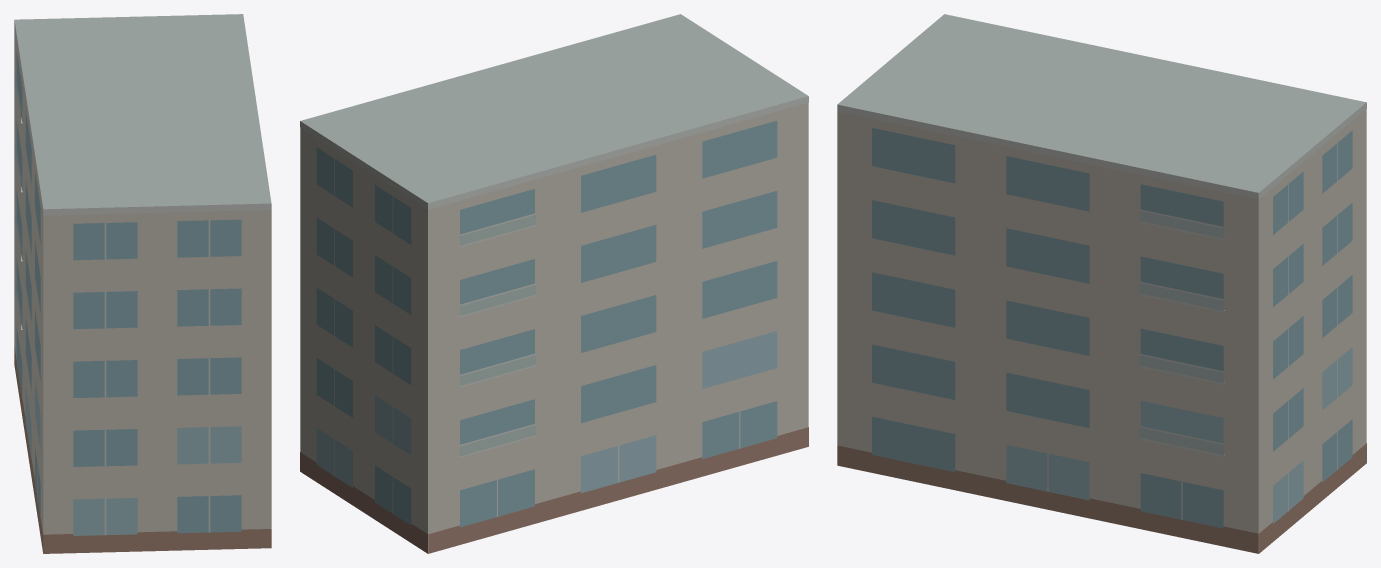
The model's file is survey-upis-32889598.glb.
3 views of the same model, side by side, from view 1: azimuth 30°, elevation 25°; view 2: azimuth 150°, elevation 25°; view 3: azimuth 270°, elevation 25° (orthographic). The views are drawn at different scales.
Parts seen in each view (by area): view 1: survey-upis-32889598.tmp; view 2: survey-upis-32889598.tmp; view 3: survey-upis-32889598.tmp.
Part boxes in pixels (bbox=[...]): survey-upis-32889598.tmp: bbox=[14, 14, 271, 553]; survey-upis-32889598.tmp: bbox=[300, 14, 808, 553]; survey-upis-32889598.tmp: bbox=[837, 14, 1366, 553].
Size of the model in its own units: 14.04 by 13.2 by 17.55.
